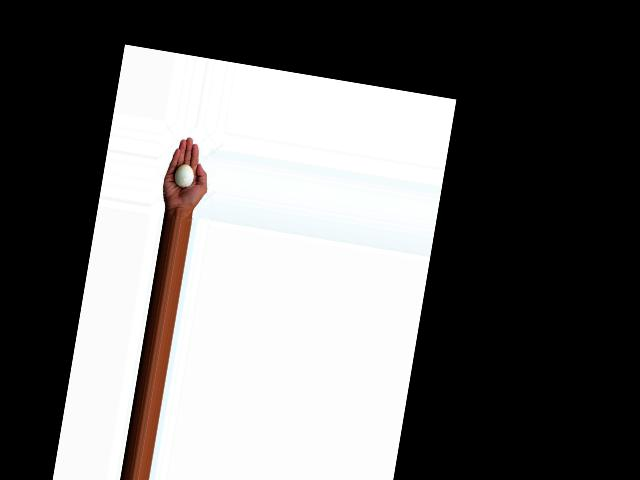egg: (173, 162, 195, 188)
